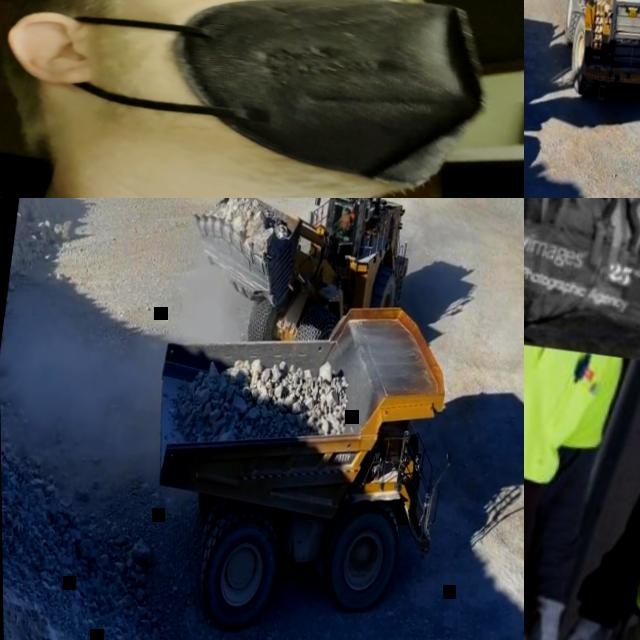Mask: (19, 0, 501, 198)
NO-Hardhat: (344, 207, 349, 212)
NO-Safety Vest: (540, 198, 610, 311), (590, 198, 640, 313), (524, 198, 569, 317), (341, 214, 349, 229)
Person: (0, 0, 524, 198), (524, 337, 626, 640), (551, 351, 640, 640), (338, 206, 352, 233)
Safety Vest: (524, 335, 622, 491)
machinery: (120, 270, 472, 640), (171, 198, 422, 385), (538, 0, 640, 125)
